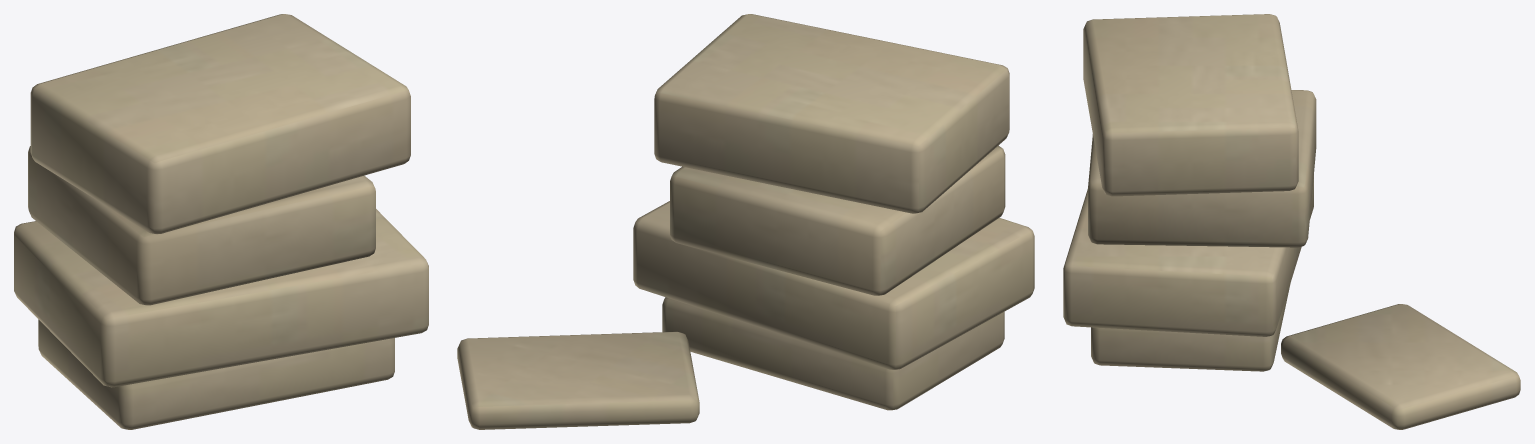
Rendered from p_books.glb.
3 renders of one model, left to right at view 1: azimuth 30°, elevation 25°; view 2: azimuth 150°, elevation 25°; view 3: azimuth 270°, elevation 25°, orthographic. The views are drawn at different scales.
Parts seen in each view (by area): view 1: books; view 2: books; view 3: books.
Part boxes in pixels (bbox=[...]): books: bbox=[14, 14, 428, 429]; books: bbox=[457, 14, 1034, 429]; books: bbox=[1063, 14, 1520, 429].
Size of the model in its own units: 0.4565 by 0.2816 by 0.4732.
1 material, 1 textured.
